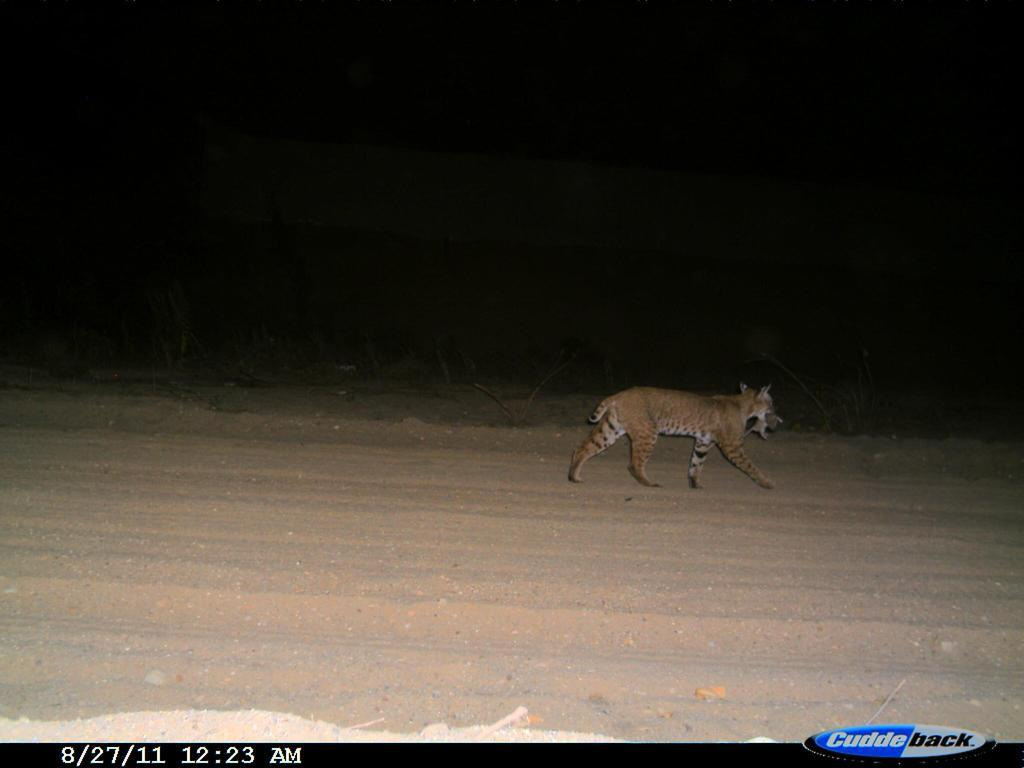bobcat: (559, 374, 791, 503)
